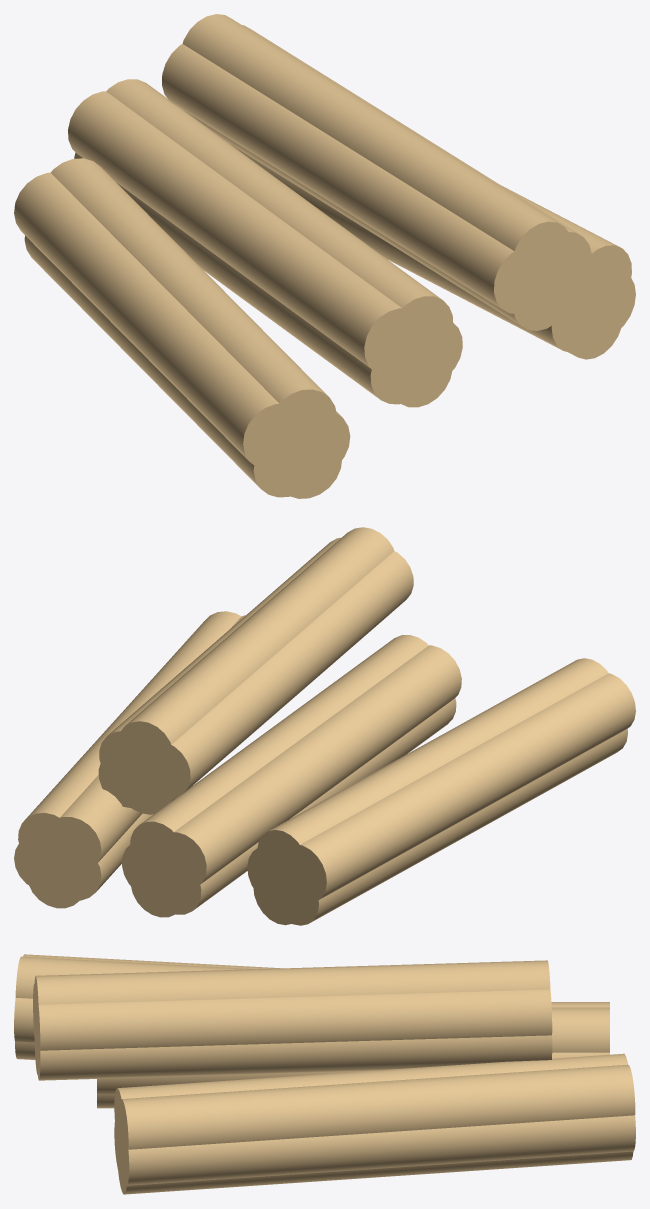
Rendered from raw_churros.fbx.
3 renders of one model, top to bottom at view 1: azimuth 30°, elevation 25°; view 2: azimuth 150°, elevation 25°; view 3: azimuth 270°, elevation 25°, orthographic. The views are drawn at different scales.
Parts seen in each view (by area): view 1: pCylinder5 (×3), pCylinder4 (×4), pCylinder6 (×4), pCylinder3 (×4), pCylinder7 (×4); view 2: pCylinder5 (×4), pCylinder4 (×4), pCylinder6 (×4), pCylinder3 (×4), pCylinder7 (×4); view 3: pCylinder4 (×4), pCylinder3 (×4), pCylinder7 (×3), pCylinder5 (×3).
Part boxes in pixels (left/top/right/bottom): pCylinder5 (×3): left=14, top=44, right=554, bottom=470; pCylinder4 (×4): left=50, top=14, right=631, bottom=455; pCylinder6 (×4): left=24, top=110, right=596, bottom=497; pCylinder3 (×4): left=242, top=25, right=635, bottom=476; pCylinder7 (×4): left=274, top=254, right=623, bottom=498; pCylinder5 (×4): left=43, top=551, right=635, bottom=903; pCylinder4 (×4): left=18, top=527, right=608, bottom=889; pCylinder6 (×4): left=42, top=615, right=627, bottom=925; pCylinder3 (×4): left=14, top=537, right=341, bottom=905; pCylinder7 (×4): left=27, top=751, right=303, bottom=925; pCylinder4 (×4): left=15, top=956, right=635, bottom=1161; pCylinder3 (×4): left=14, top=989, right=635, bottom=1185; pCylinder7 (×3): left=15, top=1017, right=633, bottom=1194; pCylinder5 (×3): left=23, top=954, right=627, bottom=1150.
Bounding box in the file's own units: 2.6 × 1.15 × 3.58.
